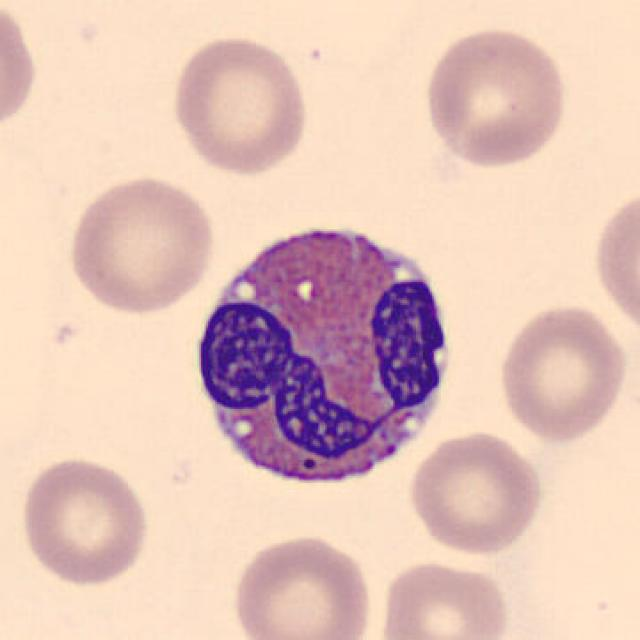Eosinophil: (182, 203, 468, 508)
RBC: (418, 21, 572, 171), (62, 171, 219, 317), (167, 32, 313, 178), (493, 300, 631, 446), (16, 453, 153, 589), (405, 427, 546, 557), (227, 530, 376, 640), (375, 555, 514, 640), (588, 180, 638, 342), (0, 0, 41, 143)
